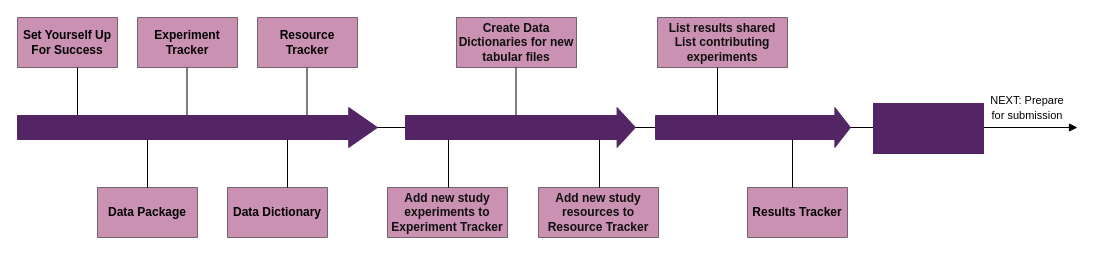
Some shapes in this 1103 by 255 pixel diagram are drawn without their labels. Here are the shapes that lost their labels. From the top down, the box of each, then its label:
(16, 106, 378, 148): Right Away
(404, 106, 636, 148): Throughout Your Study
(654, 106, 850, 148): After Manuscript Finalized
(872, 102, 984, 154): Finish Preparing Data Package Locally
